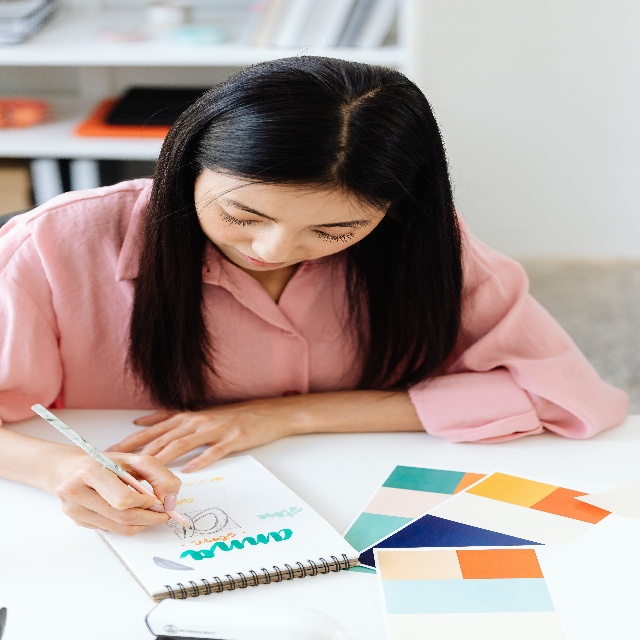Sin_guantes: (102, 391, 282, 476), (51, 439, 181, 537)
